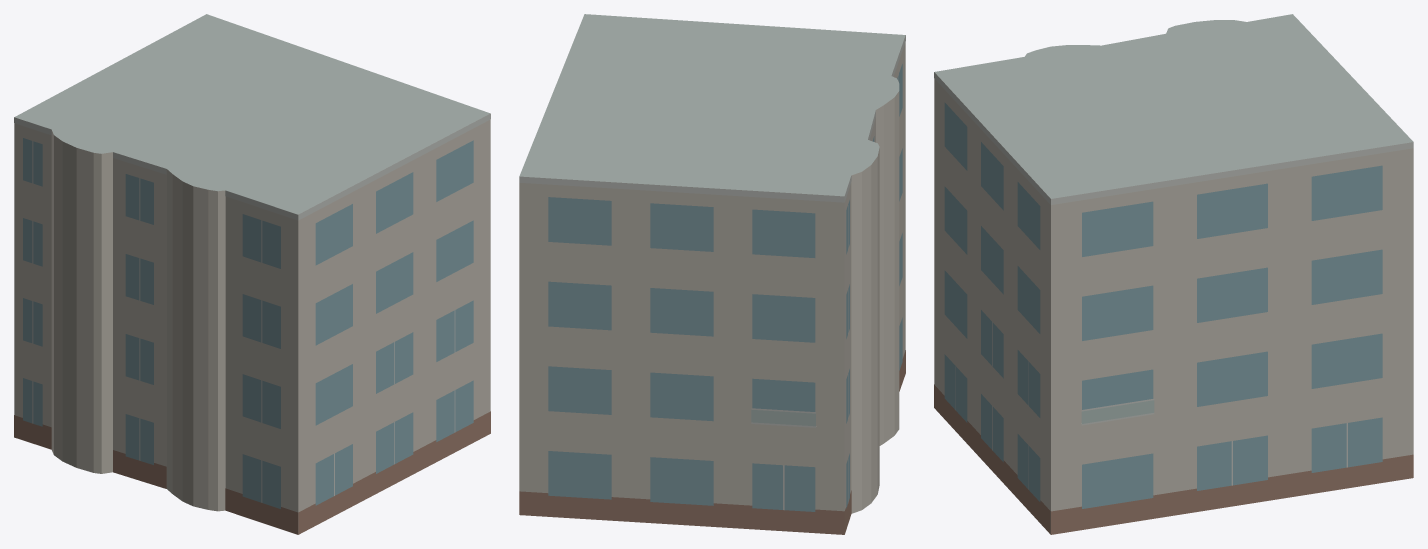
File: survey-upis-32926234.glb
The picture shows the model from 3 angles, left to right: view 1: azimuth 30°, elevation 25°; view 2: azimuth 150°, elevation 25°; view 3: azimuth 270°, elevation 25°; orthographic projection. The views are drawn at different scales.
Parts seen in each view (by area): view 1: survey-upis-32926234.tmp; view 2: survey-upis-32926234.tmp; view 3: survey-upis-32926234.tmp.
Part boxes in pixels (bbox=[...]): survey-upis-32926234.tmp: bbox=[14, 14, 490, 534]; survey-upis-32926234.tmp: bbox=[519, 14, 905, 534]; survey-upis-32926234.tmp: bbox=[934, 14, 1413, 534].
Bounding box in the file's own units: 15.6 × 13.2 × 17.09.
